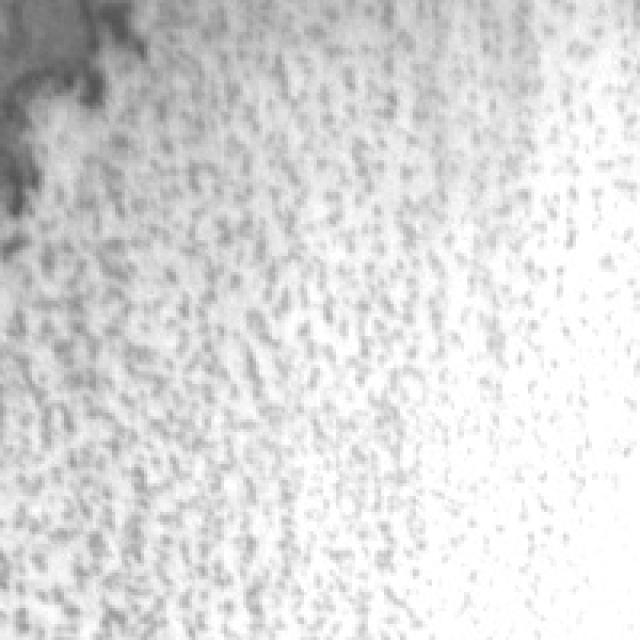patches: (10, 0, 154, 214)
pitted_surface: (16, 29, 637, 630)
